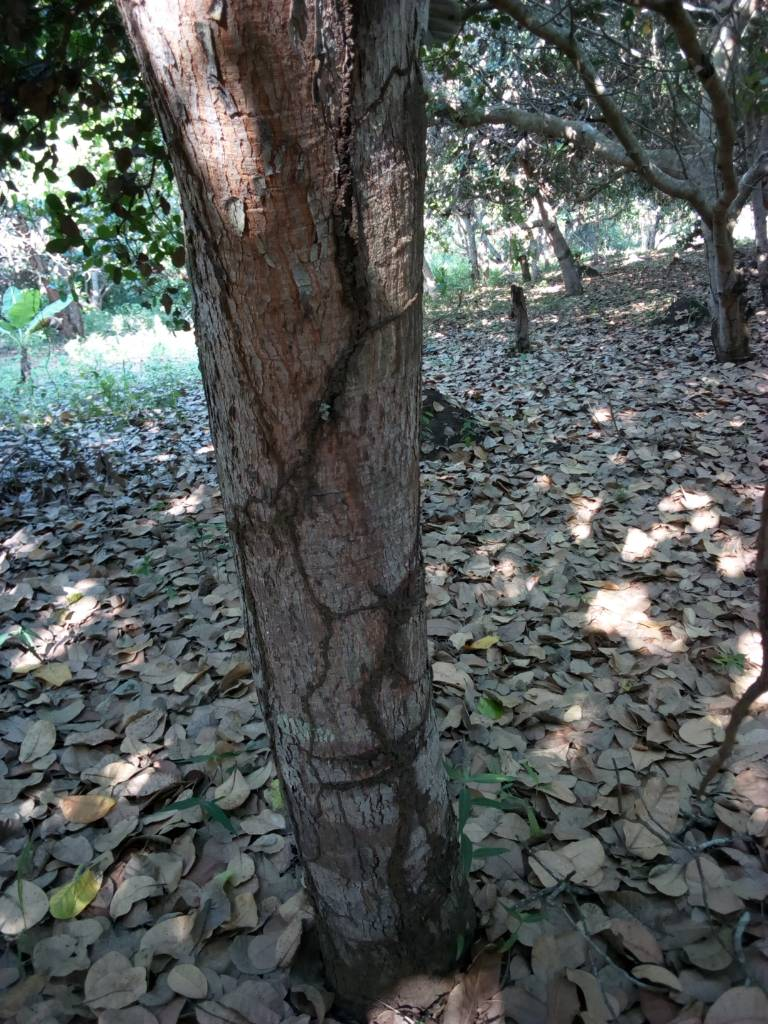Termites: (365, 575, 450, 939), (311, 171, 413, 417)
